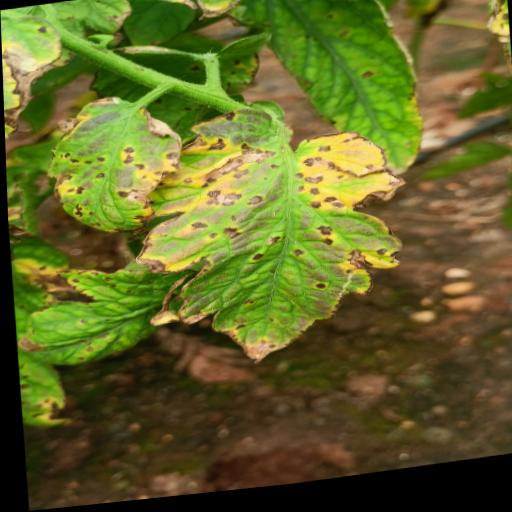Early Blight: (128, 112, 413, 382), (32, 84, 191, 256), (8, 254, 162, 381)
